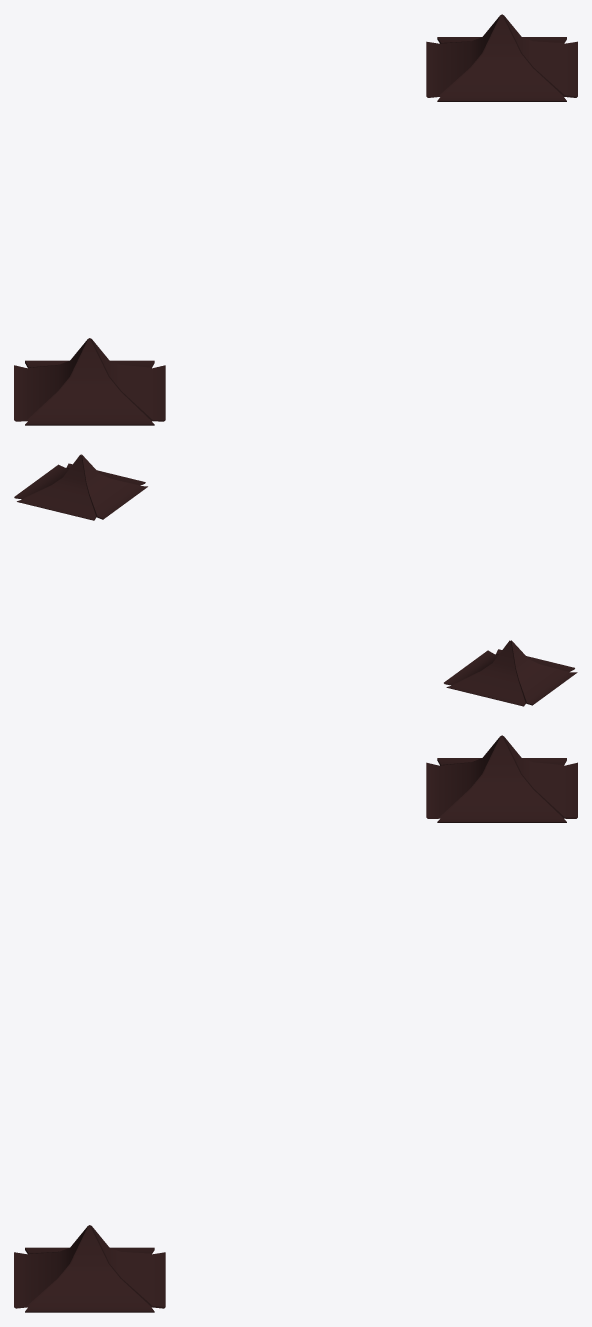
Rendered from object_55_lev1_lev2.glb.
The picture shows the model from 3 angles, top to bottom: view 1: azimuth 90°, elevation 25°; view 2: azimuth 150°, elevation 25°; view 3: azimuth 270°, elevation 25°; orthographic projection. The views are drawn at different scales.
Visible parts, largest first — view 1: object_55_lev1_lev2; view 2: object_55_lev1_lev2; view 3: object_55_lev1_lev2.
Boxes of the visible parts, left/top/right/bottom form: object_55_lev1_lev2: left=14, top=14, right=577, bottom=425; object_55_lev1_lev2: left=14, top=454, right=577, bottom=706; object_55_lev1_lev2: left=14, top=735, right=577, bottom=1312.
Size of the model in its own units: 45.23 by 6.22 by 22.91.
